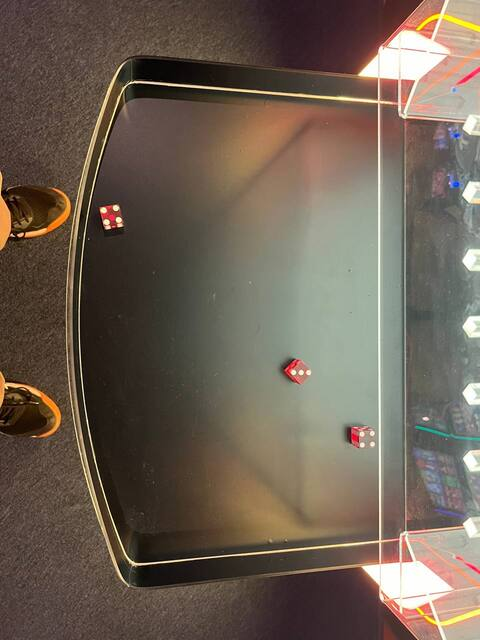four: (98, 203, 126, 229), (355, 427, 379, 451)
three: (287, 360, 314, 386)
